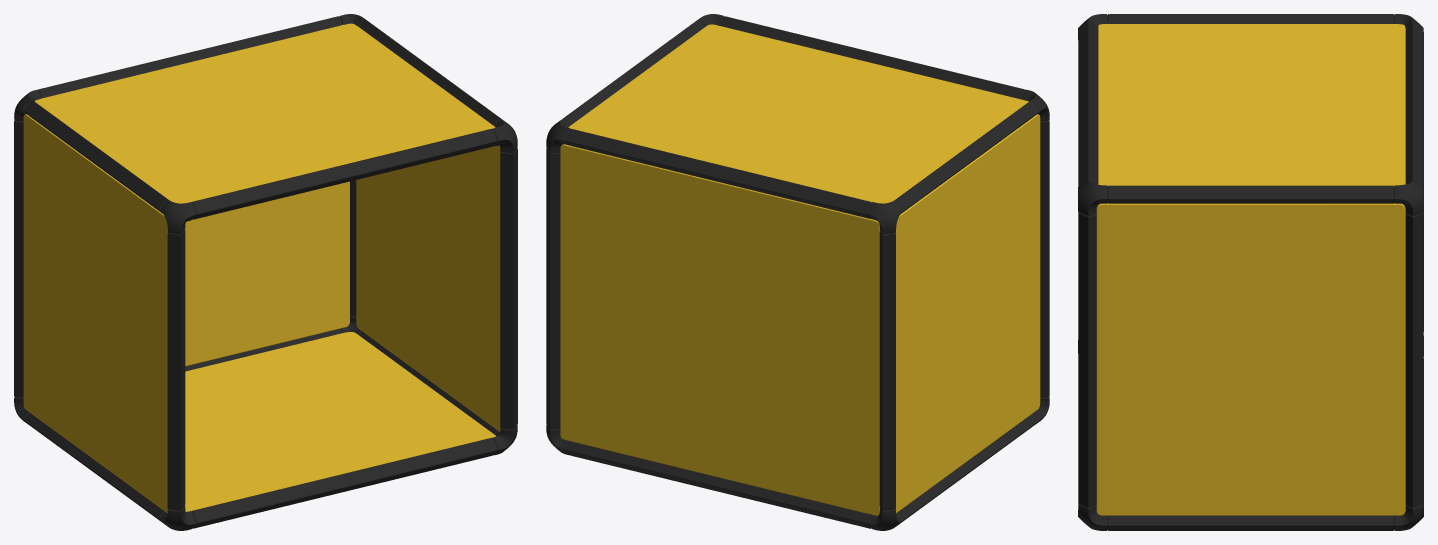
3 views of the same model, side by side, from view 1: azimuth 30°, elevation 25°; view 2: azimuth 150°, elevation 25°; view 3: azimuth 270°, elevation 25° (orthographic). The views are drawn at different scales.
Visible parts, largest first — view 1: 479x374x420; view 2: 479x374x420; view 3: 479x374x420.
Boxes of the visible parts, left/top/right/bottom form: 479x374x420: left=14, top=14, right=517, bottom=530; 479x374x420: left=546, top=14, right=1049, bottom=530; 479x374x420: left=1078, top=14, right=1423, bottom=530.
Bounding box in the file's own units: 0.5567 × 0.4976 × 0.4513.
